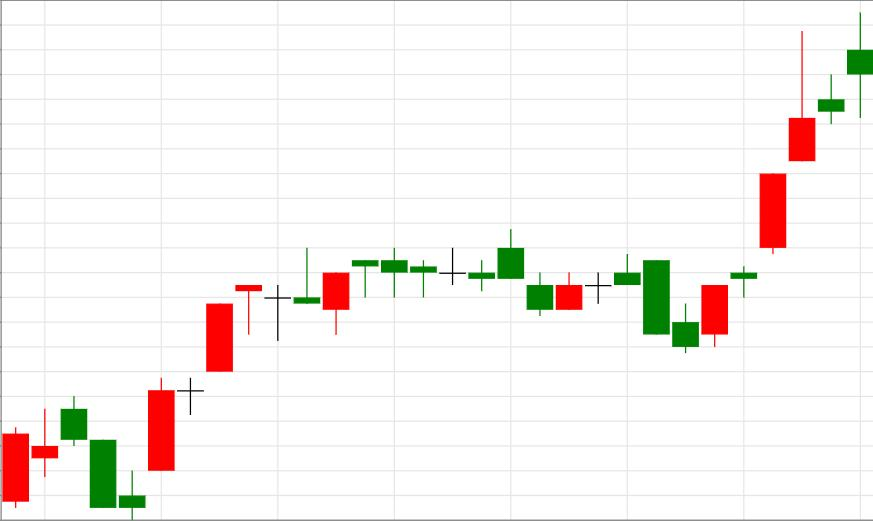shooting_star_fall: (672, 32, 815, 354)
